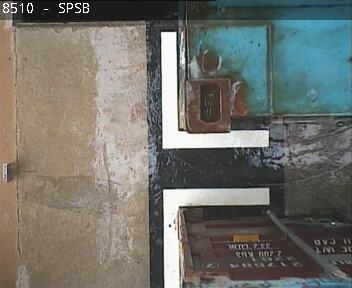groundmarker_1: (157, 31, 271, 288)
